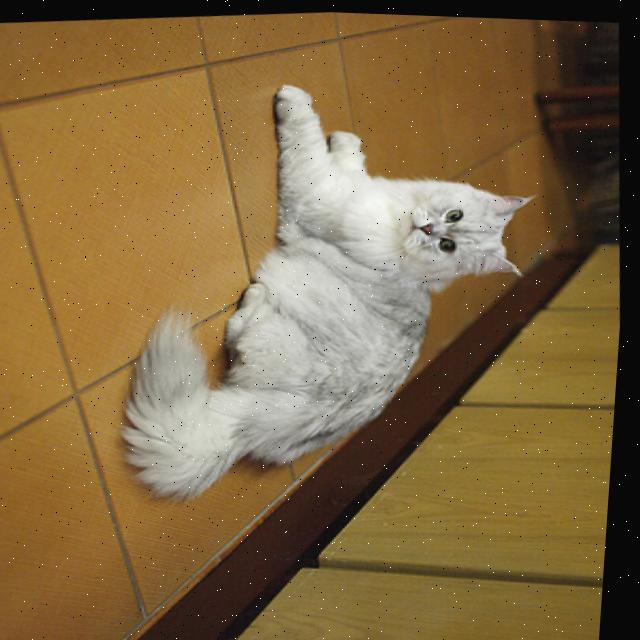Persian: (96, 56, 569, 513)
